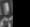legs: (0, 0, 13, 15)
